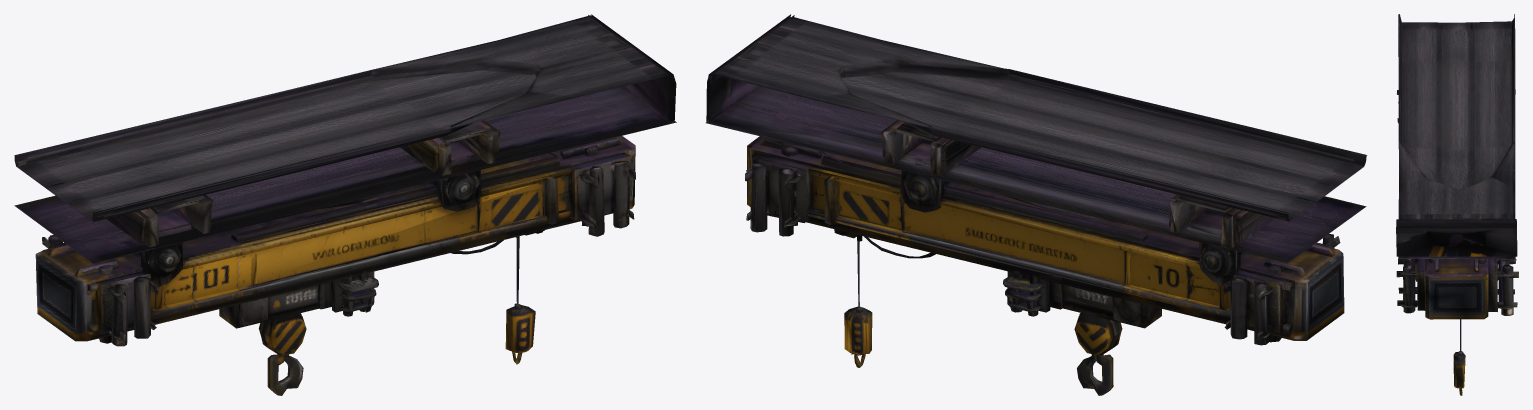
Rendered from ceiling_crane_1.glb.
3 renders of one model, left to right at view 1: azimuth 30°, elevation 25°; view 2: azimuth 150°, elevation 25°; view 3: azimuth 270°, elevation 25°, orthographic. The views are drawn at different scales.
Visible parts, largest first — view 1: mesh_node; view 2: mesh_node; view 3: mesh_node.
Boxes of the visible parts, x1,y1,x2,y2 form: mesh_node: (14,14,676,395); mesh_node: (706,14,1367,395); mesh_node: (1396,14,1518,395).
Bounding box in the file's own units: 0.2472 × 0.12 × 0.0619.
1 material, 1 textured.
